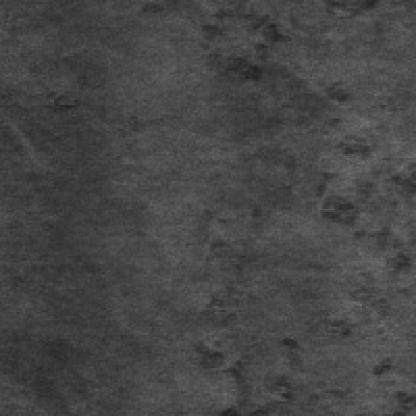rolled-in_scale: (314, 79, 412, 414), (187, 204, 291, 410), (187, 2, 281, 79)
